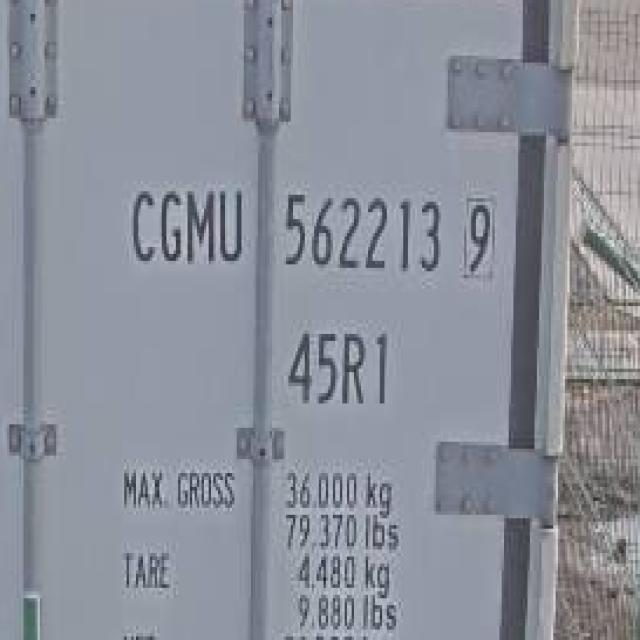dv: (457, 188, 502, 282)
owner: (124, 180, 255, 274)
serial: (281, 178, 443, 280)
size: (283, 320, 403, 414)
